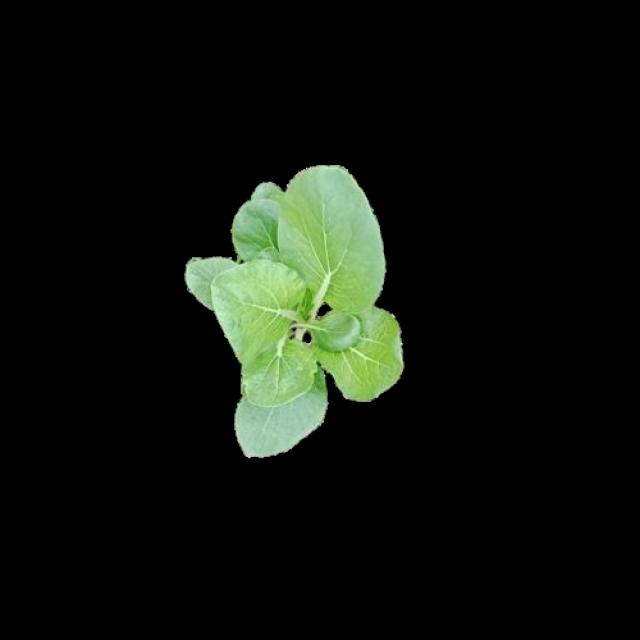healthy: (186, 163, 403, 453)
not-mature: (188, 165, 406, 456)
